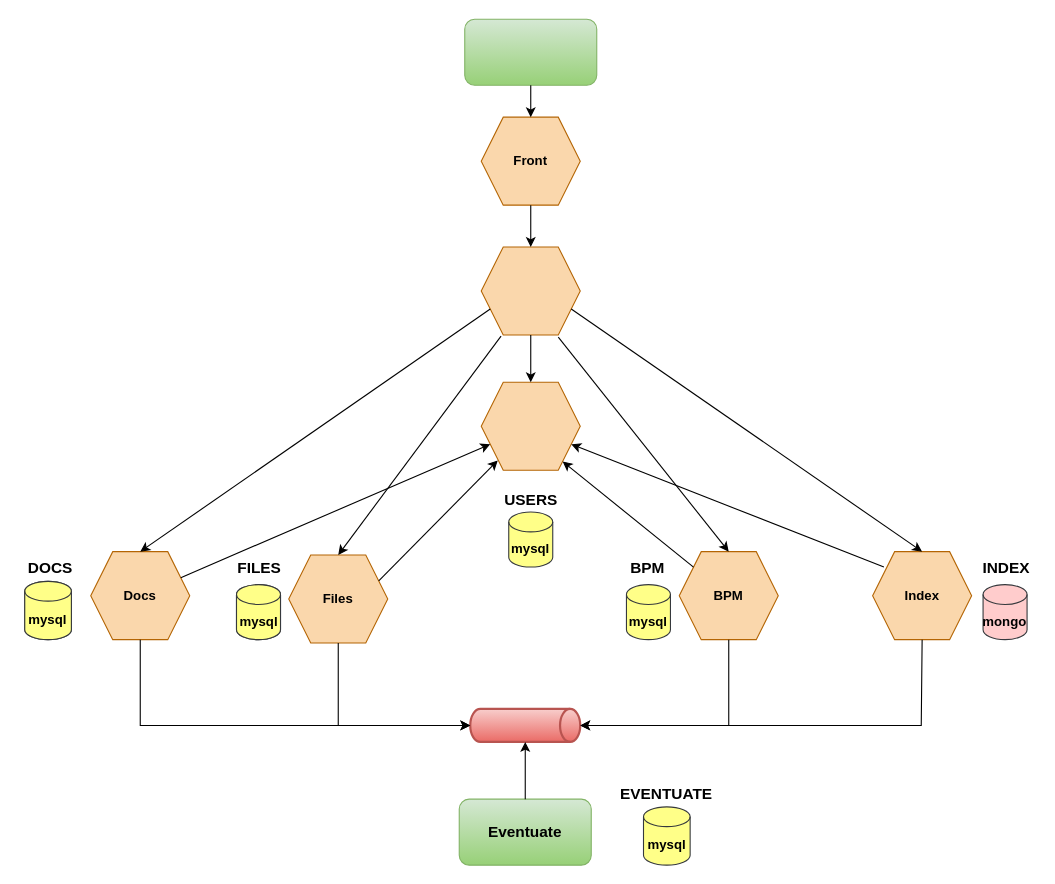
Some shapes in this 1055 by 884 pixel diagram are drawn without their labels. Here are the shapes that lost their labels. From the top down, the centre of each, then its label:
point (530, 51): INGRESS
point (530, 290): api-gateway
point (530, 425): OAuth2
point (525, 725): Kafka
